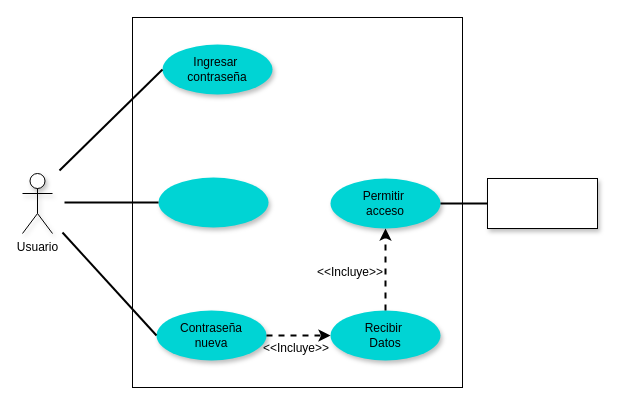
The diagram is 621 pixels wide and 405 high, and some of its shapes have lost their labels. Each missing label, with the centre of its shape:
"Recuperar contraseña" belongs at point (214, 203).
"Sistema" belongs at point (543, 205).
